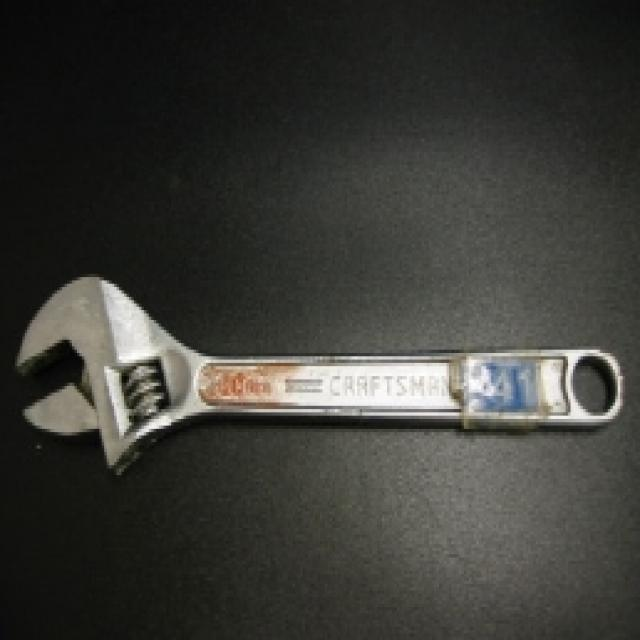wrench: (0, 265, 629, 485)
